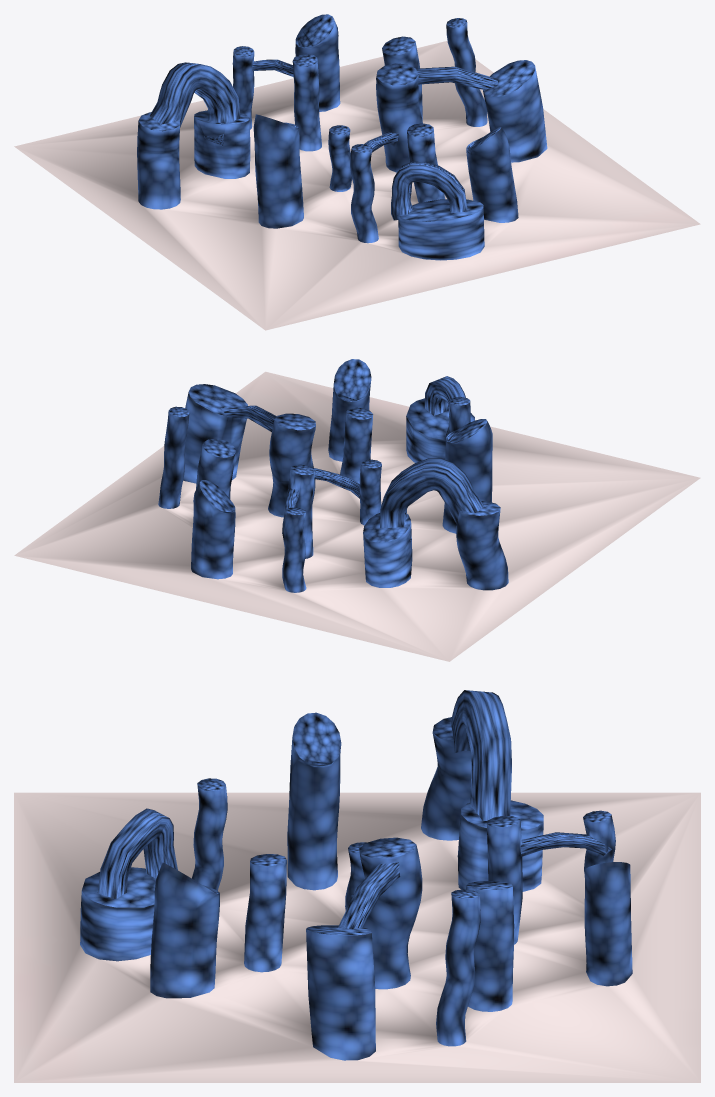
File: Columns.fbx
3 views of the same model, one above another, from view 1: azimuth 30°, elevation 25°; view 2: azimuth 150°, elevation 25°; view 3: azimuth 270°, elevation 25° (orthographic). The views are drawn at different scales.
Parts seen in each view (by area): view 1: makevr_0011; view 2: makevr_0011; view 3: makevr_0011.
Part boxes in pixels (<box>): makevr_0011: <box>14,14,700,330</box>; makevr_0011: <box>14,359,700,661</box>; makevr_0011: <box>14,690,700,1082</box>.
Size of the model in its own units: 1073 by 280 by 1073.
